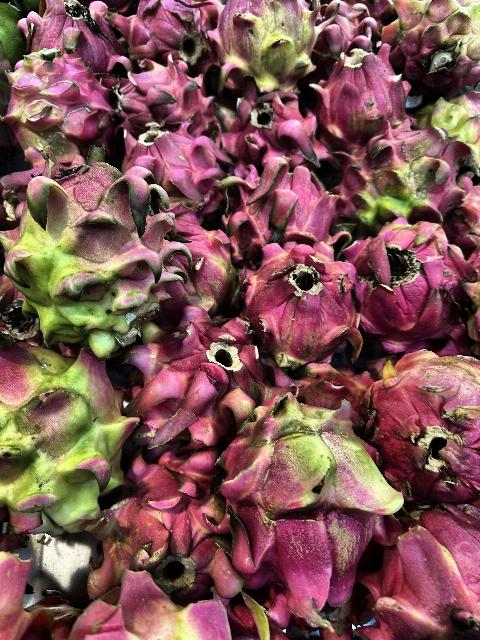buah-naga-belum-matang: (214, 388, 406, 602), (10, 147, 190, 349), (0, 336, 140, 540), (97, 458, 237, 600), (362, 351, 480, 504), (336, 117, 464, 223), (1, 50, 119, 164), (188, 0, 322, 94), (63, 576, 237, 640), (162, 213, 243, 321), (380, 0, 480, 86), (412, 86, 480, 170)
buah-naga-matang: (124, 308, 262, 446), (336, 220, 464, 352), (246, 236, 364, 364), (372, 506, 480, 640), (226, 156, 342, 262), (104, 55, 222, 147), (118, 119, 224, 209), (216, 89, 324, 175), (315, 44, 409, 138), (100, 0, 216, 68), (17, 1, 121, 72)
